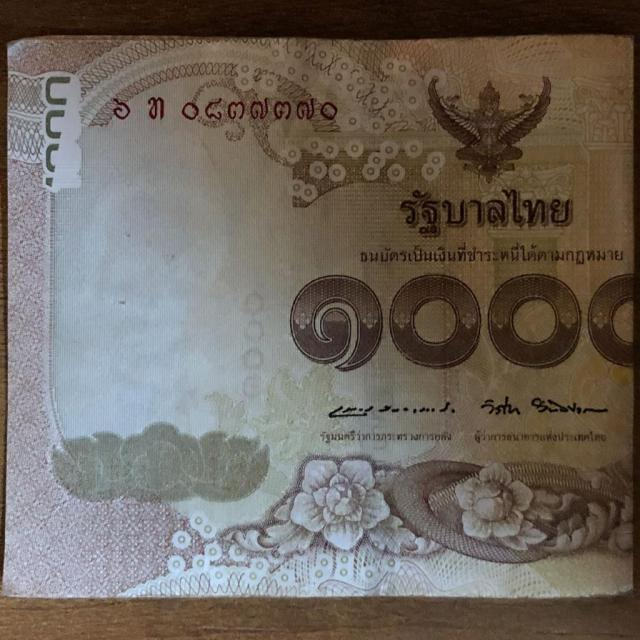THAI1000: (2, 35, 634, 598)
